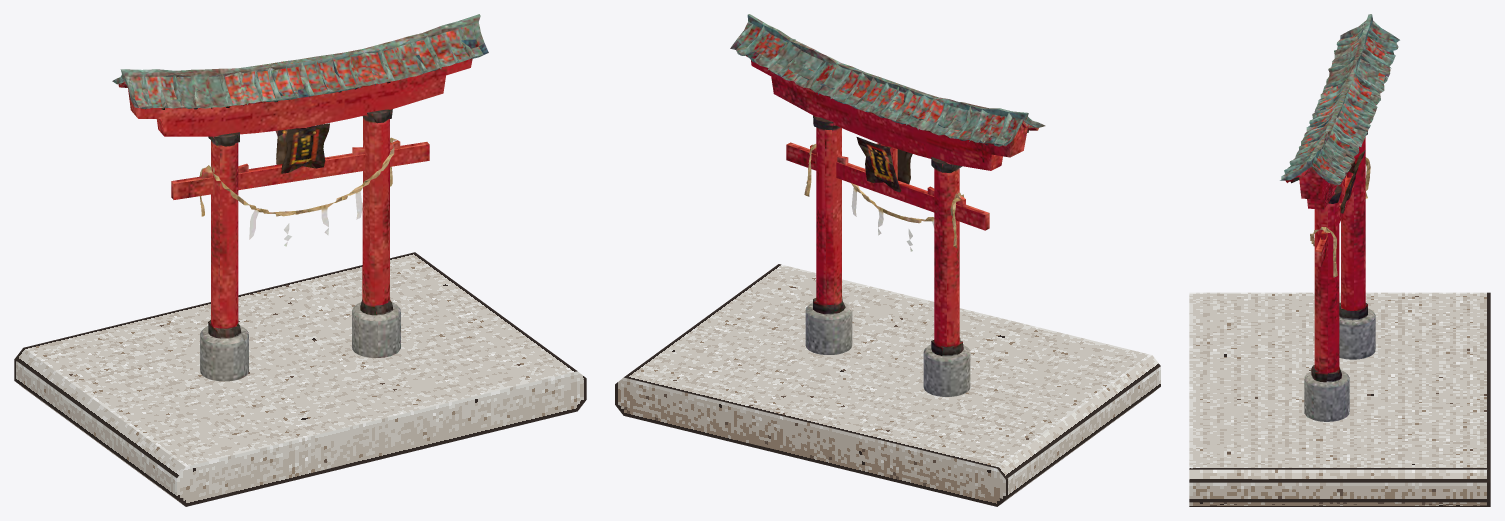
File: torii.glb
3 renders of one model, left to right at view 1: azimuth 30°, elevation 25°; view 2: azimuth 150°, elevation 25°; view 3: azimuth 270°, elevation 25°, orthographic. The views are drawn at different scales.
Parts seen in each view (by area): view 1: base, model_m; view 2: base, model_m; view 3: base, model_m.
Part boxes in pixels (x1,y1,x2,y2): base: (14,252,586,506); model_m: (112,14,488,381); base: (615,264,1160,506); model_m: (730,14,1045,396); base: (1189,292,1490,506); model_m: (1280,14,1399,421).
Size of the model in its own units: 32 by 26.68 by 22.
Materials: 2 (2 with a texture image).
